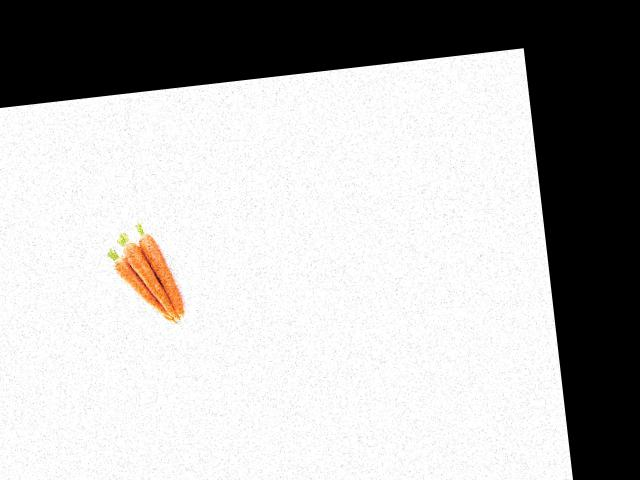carrot: (135, 233, 183, 318)
